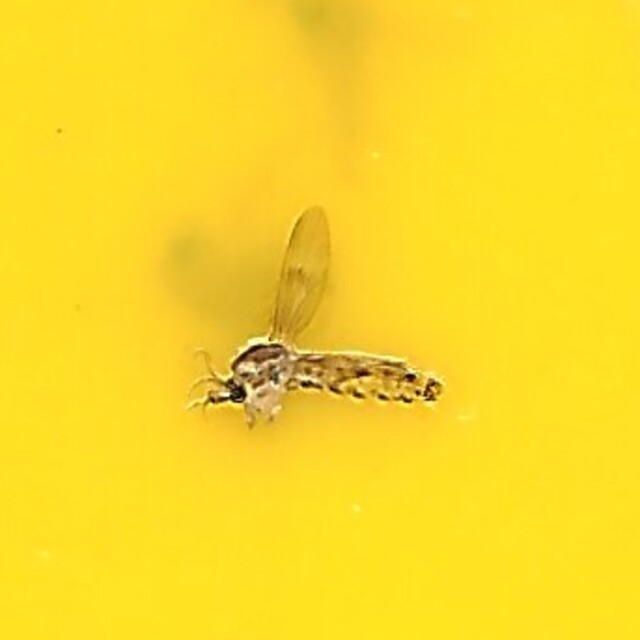Nematocera: (187, 204, 453, 436)
